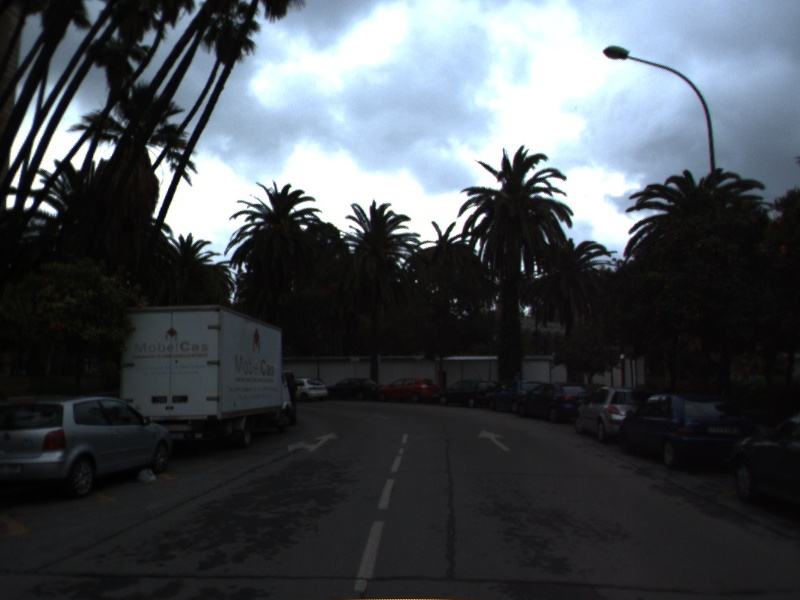STRAIGHT: (475, 427, 513, 453)
STRAIGHT_LEFT: (286, 430, 341, 455)
